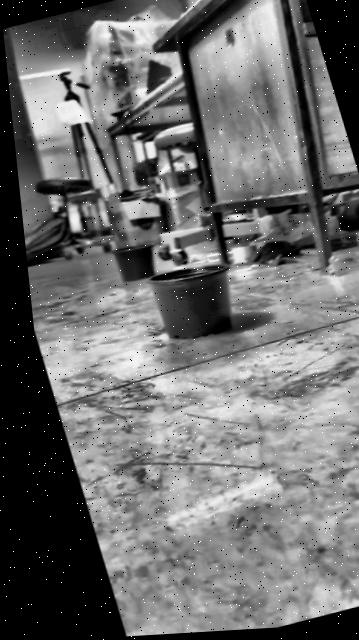pot: (143, 256, 246, 347), (110, 240, 161, 285)
